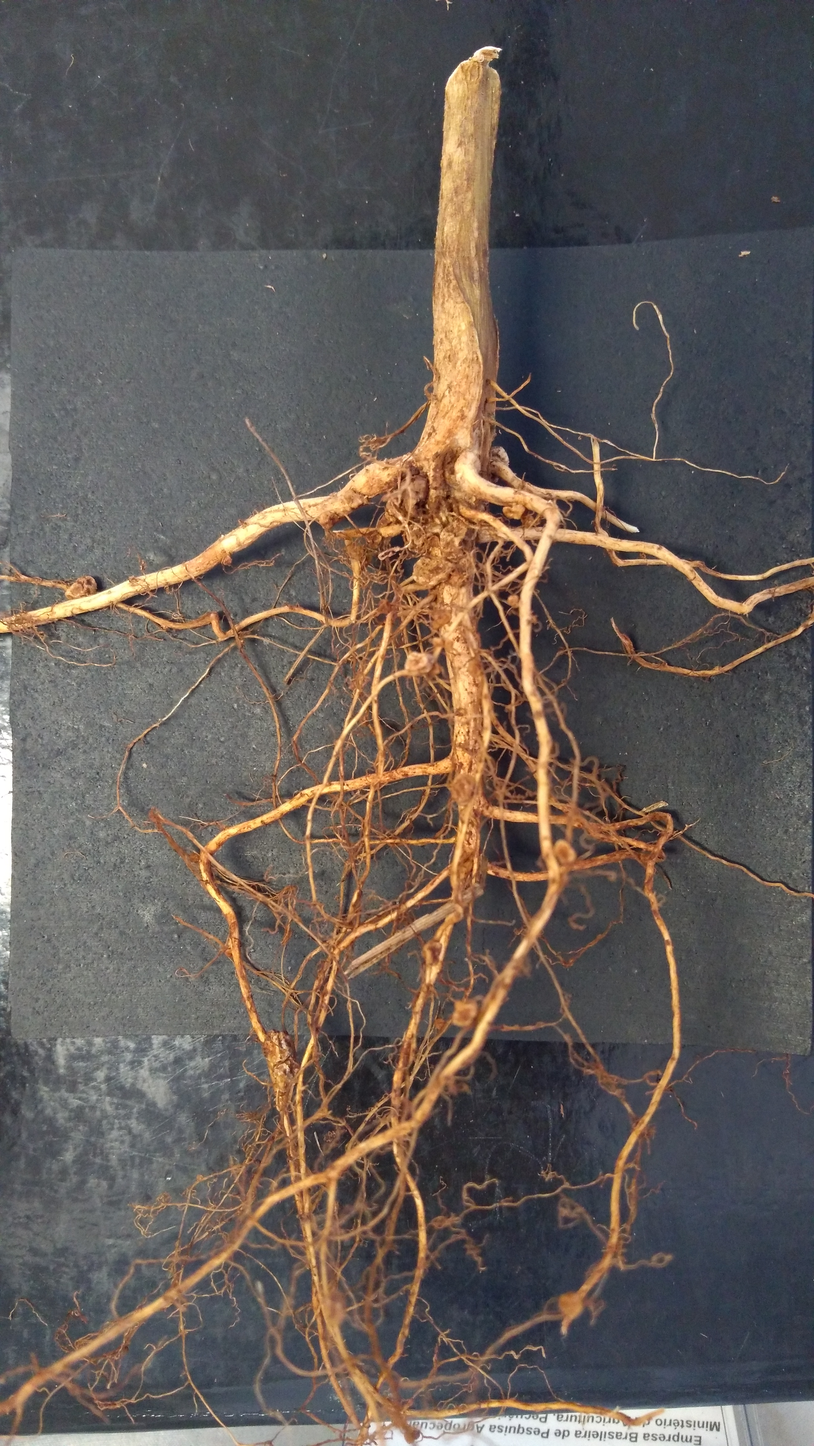nodule: (410, 553, 458, 589), (445, 768, 478, 810), (261, 1028, 297, 1064), (63, 570, 101, 604), (400, 474, 428, 516), (450, 996, 483, 1029), (437, 519, 471, 551), (402, 649, 437, 679), (553, 835, 580, 871), (416, 938, 451, 964), (557, 1290, 586, 1321), (458, 820, 480, 857), (270, 1062, 296, 1093), (500, 501, 531, 523), (384, 488, 404, 521), (430, 603, 451, 630), (376, 522, 406, 540), (504, 593, 522, 608), (432, 1017, 447, 1034), (429, 636, 451, 647), (377, 598, 392, 613), (224, 946, 233, 957)
